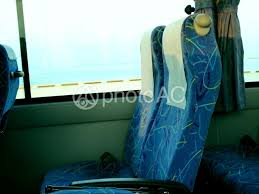seat: (126, 26, 202, 188)
